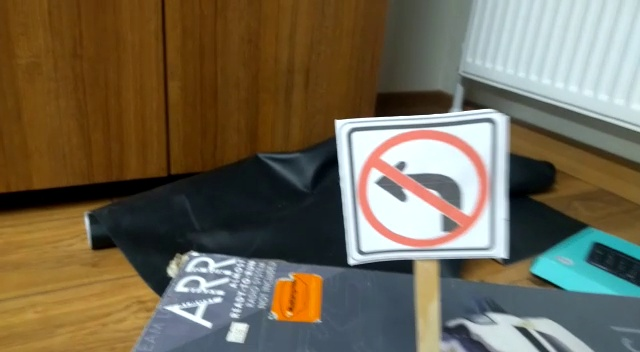sola_donulmez: (356, 119, 494, 257)
